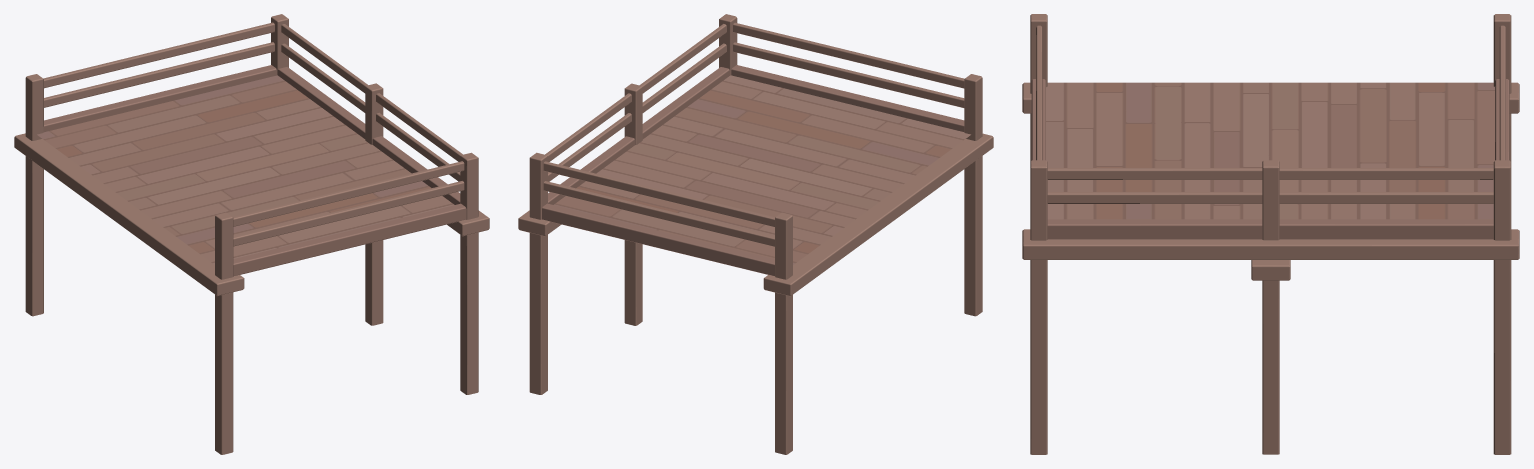
The model's file is BoardWalkEnd.fbx.
3 renders of one model, left to right at view 1: azimuth 30°, elevation 25°; view 2: azimuth 150°, elevation 25°; view 3: azimuth 270°, elevation 25°, orthographic. The views are drawn at different scales.
Visible parts, largest first — view 1: BoardWalkEnd; view 2: BoardWalkEnd; view 3: BoardWalkEnd.
Part boxes in pixels (x1=…): BoardWalkEnd: x1=14, y1=14, x2=489, y2=454; BoardWalkEnd: x1=518, y1=14, x2=993, y2=454; BoardWalkEnd: x1=1022, y1=14, x2=1519, y2=454.
Size of the model in its own units: 679 by 542 by 848.
